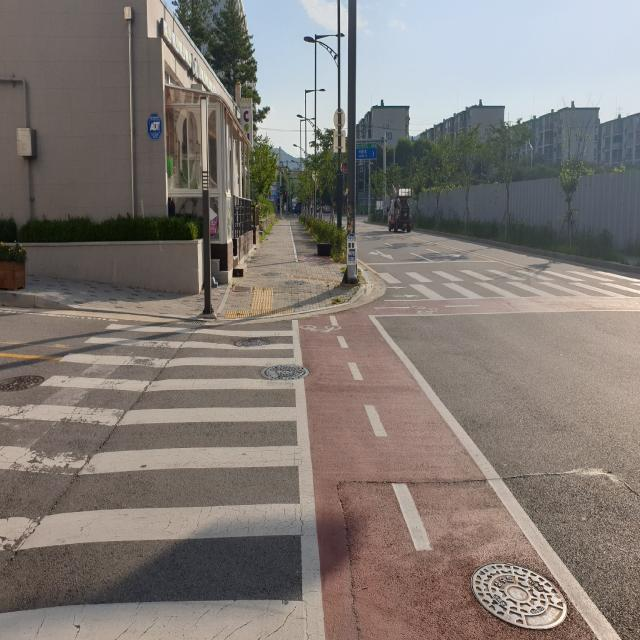횡단보도: (0, 321, 308, 640), (370, 265, 640, 301)
